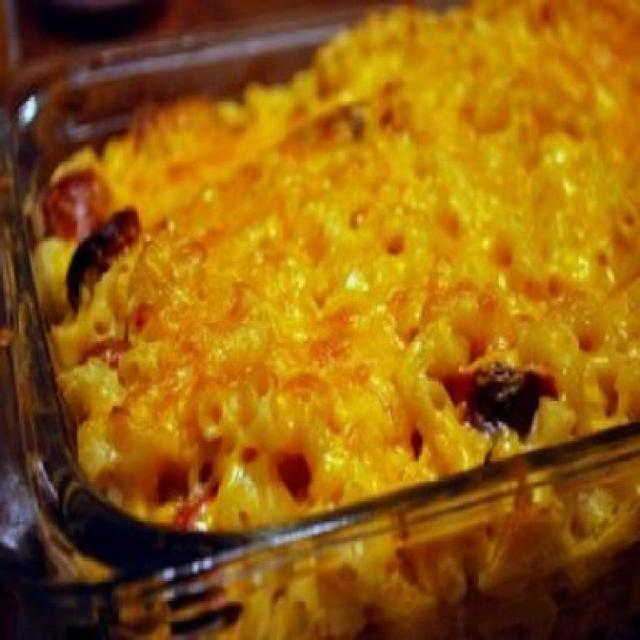hot dog: (33, 152, 147, 310), (439, 353, 547, 435)
